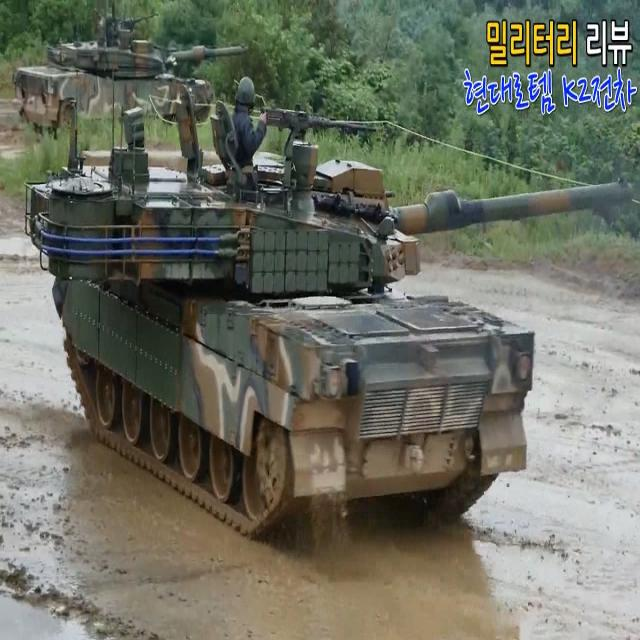korea tank: (24, 78, 634, 534)
